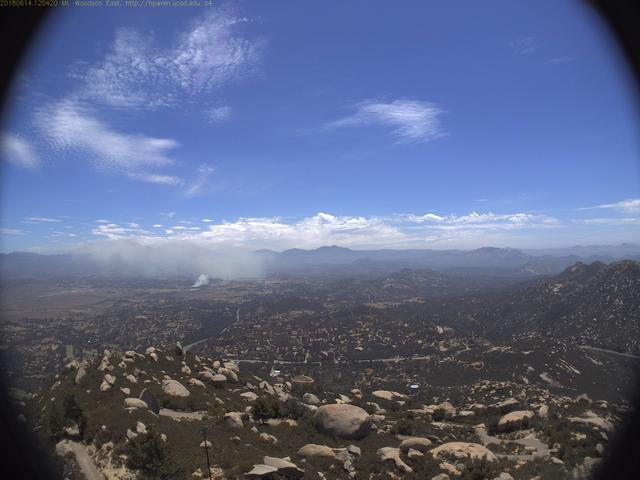smoke: (70, 237, 268, 291)
